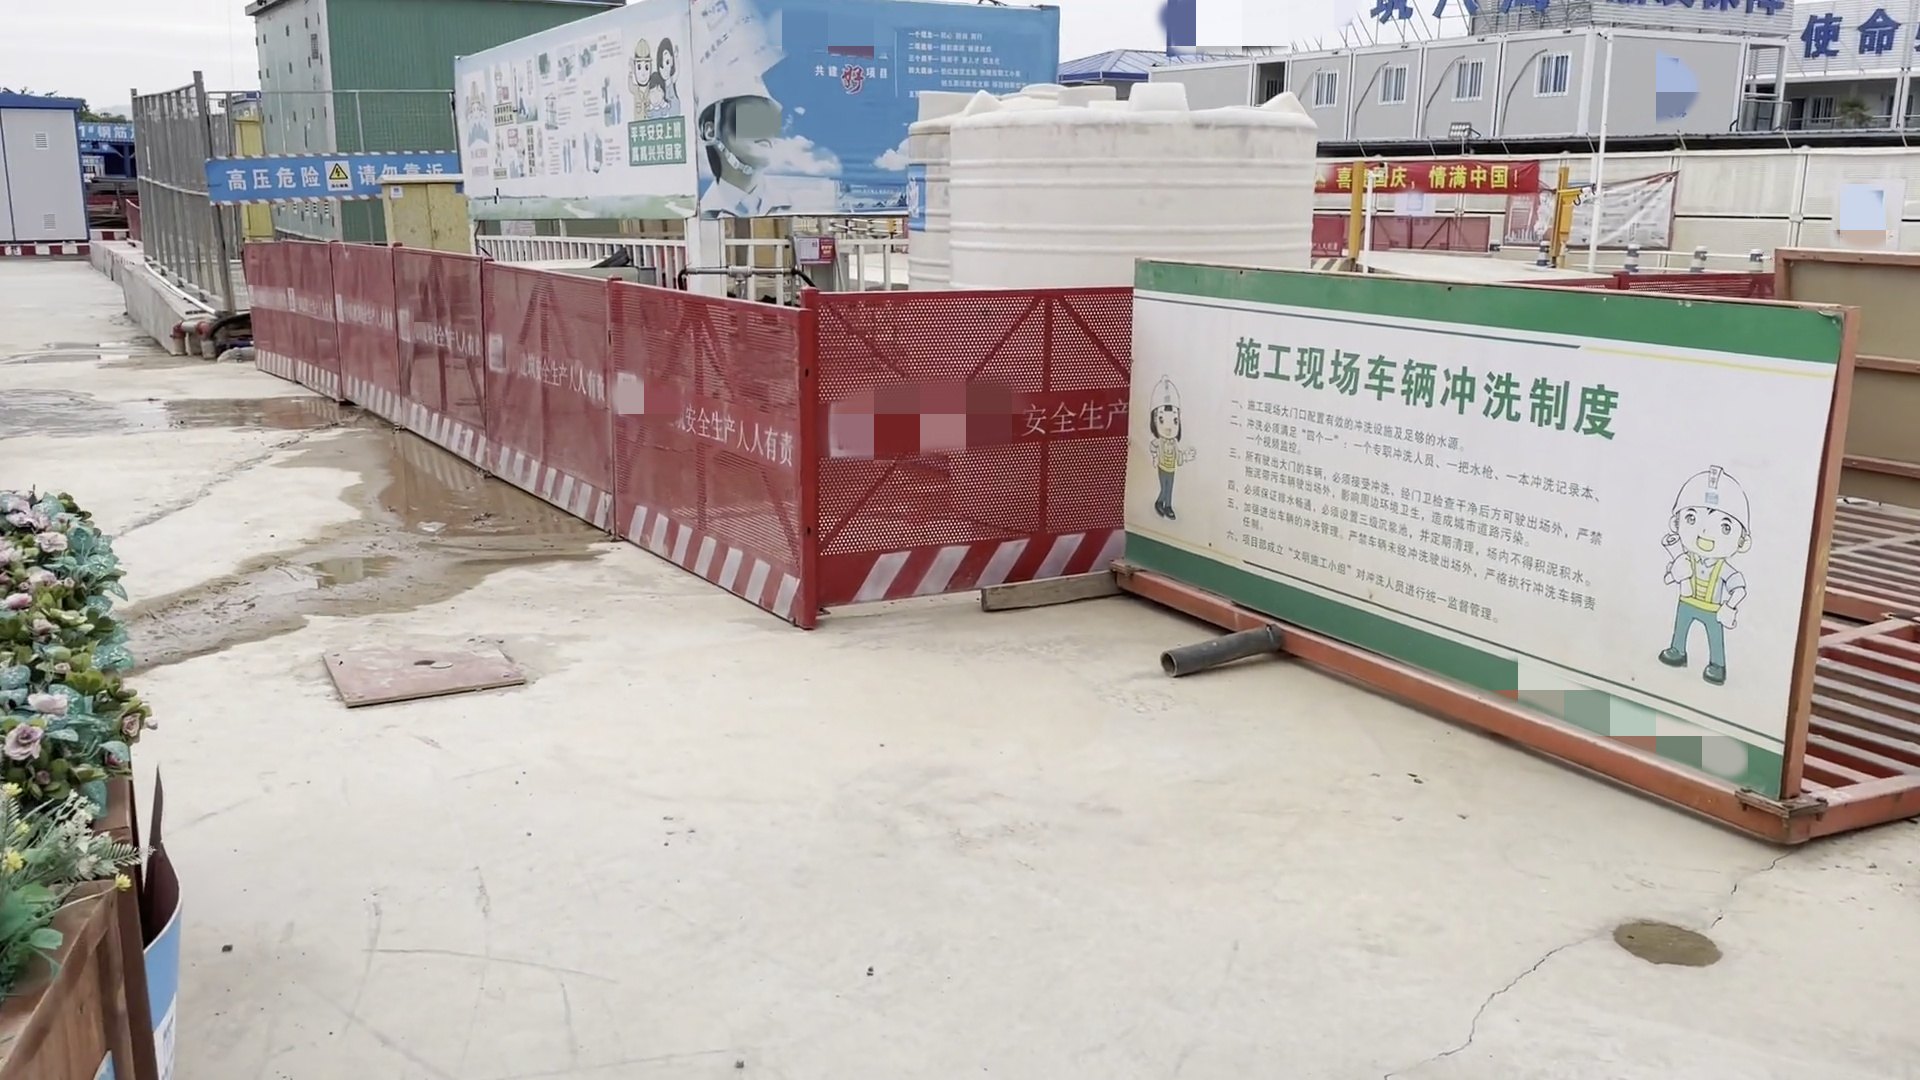ebox: (377, 166, 469, 256)
fence: (237, 237, 823, 644), (806, 289, 1124, 591), (1313, 215, 1491, 257)
slogan: (1785, 7, 1902, 75), (1317, 166, 1528, 200), (214, 162, 442, 187), (629, 119, 682, 165)
